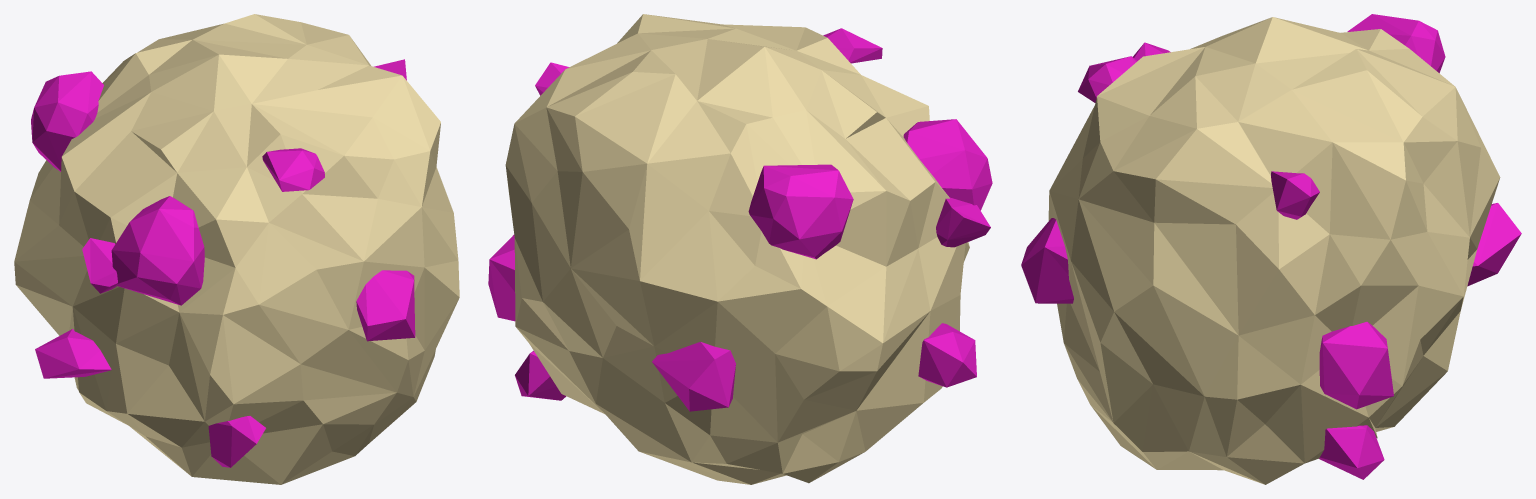
The model's file is CrystalOre (27).fbx.
3 views of the same model, side by side, from view 1: azimuth 30°, elevation 25°; view 2: azimuth 150°, elevation 25°; view 3: azimuth 270°, elevation 25° (orthographic). The views are drawn at different scales.
Visible parts, largest first — view 1: Asteroid247; view 2: Asteroid247; view 3: Asteroid247.
Part boxes in pixels (box(x1,y1,x2,y2)): Asteroid247: box(14, 14, 459, 484); Asteroid247: box(488, 14, 992, 484); Asteroid247: box(1021, 14, 1521, 484).
Bounding box in the file's own units: 546 × 515 × 544.
